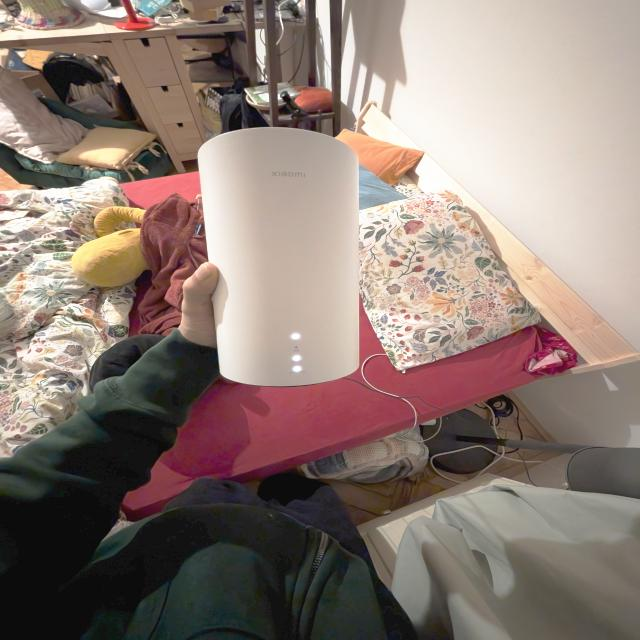modem: (192, 128, 361, 384)
off: (292, 343, 302, 351)
on: (286, 327, 302, 343), (288, 365, 304, 374), (292, 354, 302, 362)
